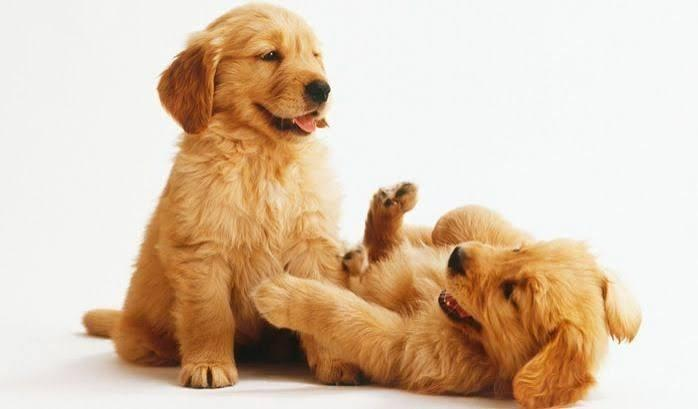puppy-dog: (77, 2, 359, 389), (255, 181, 642, 409)
